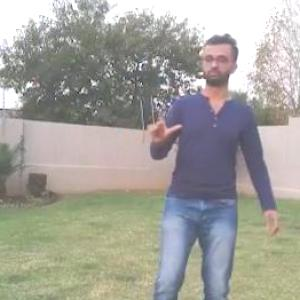land_hand: (147, 103, 186, 148)
